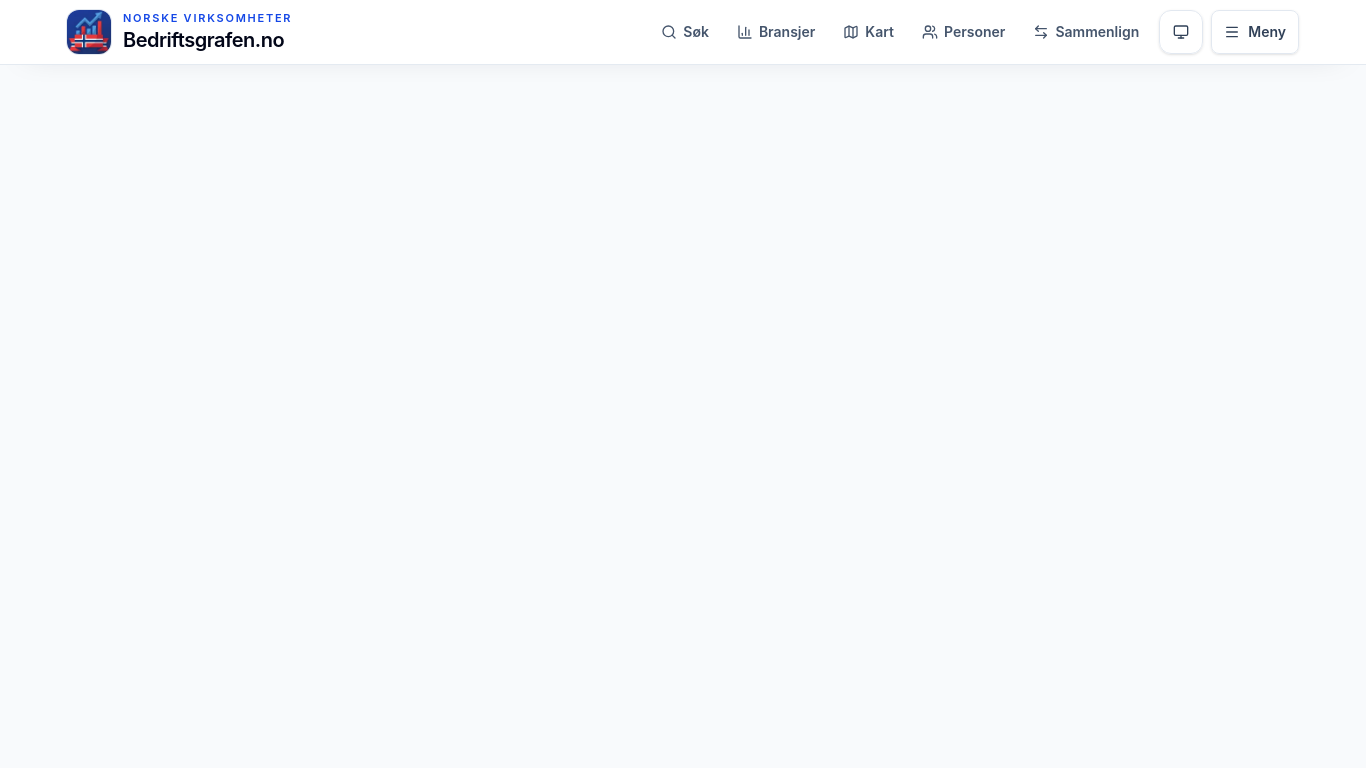
Header › opens a grouped quick menu that reaches every static site area
Click the button with aria-label "Åpne meny" at (1255, 32), box left=1211, top=10, right=1299, bottom=54
(page scrolled)
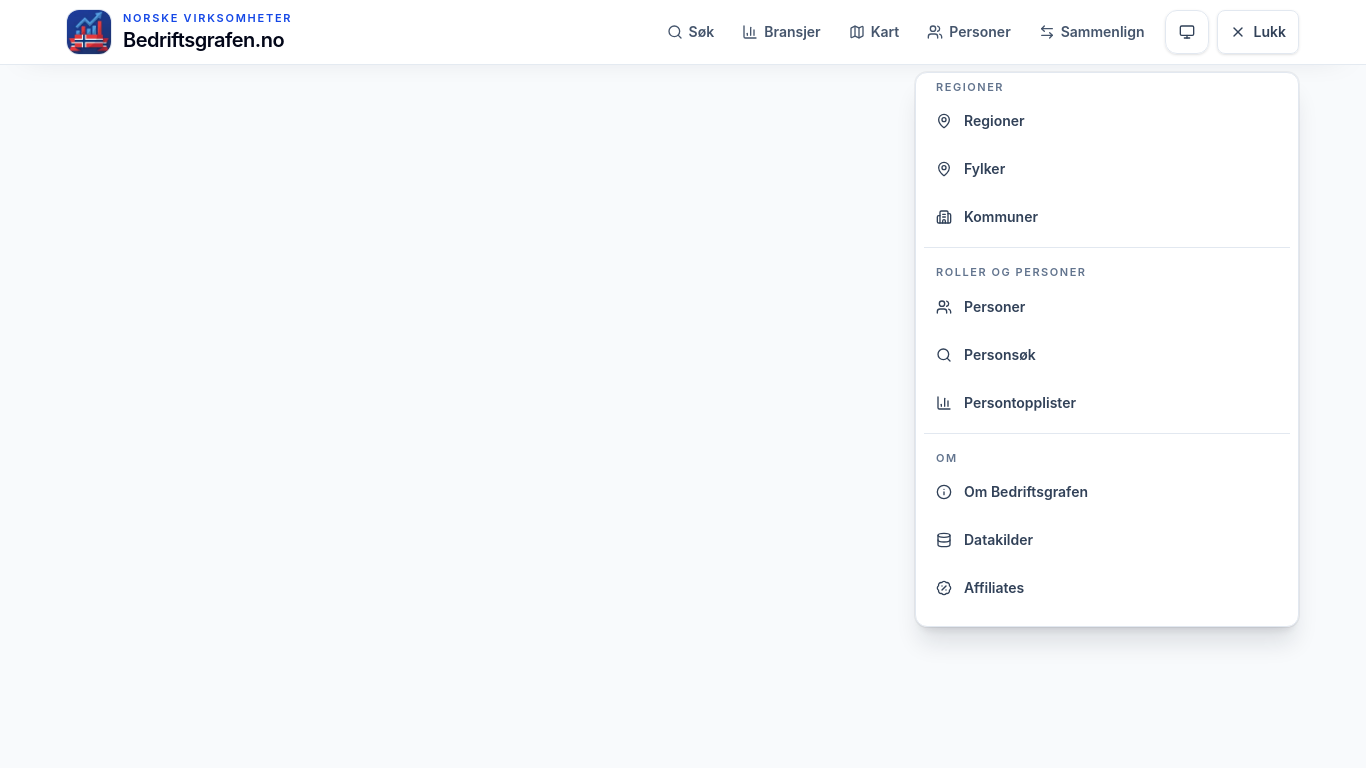
Result: the button named "Åpne meny" is expanded at left=1217, top=10, right=1299, bottom=54
Result: the heading "Roller og personer" is shown at left=936, top=265, right=1087, bottom=279
